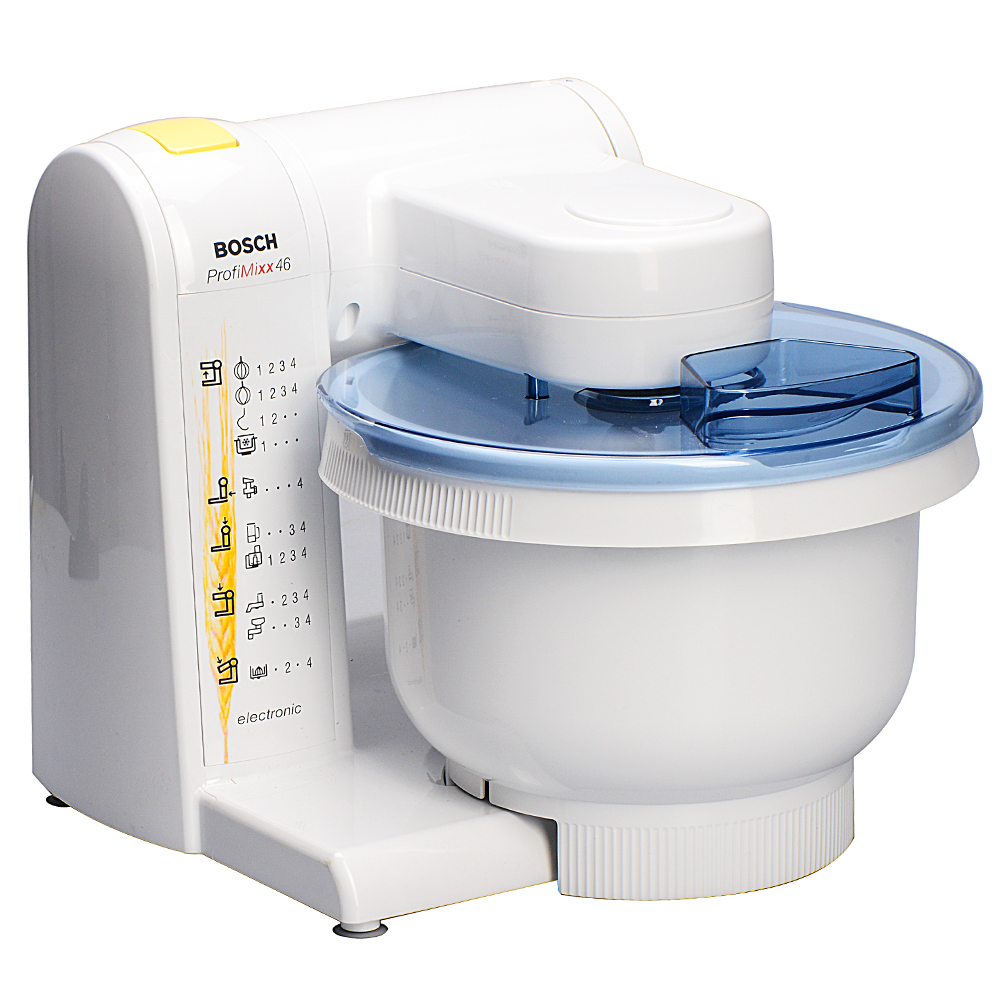Bosch: (199, 230, 295, 261)
